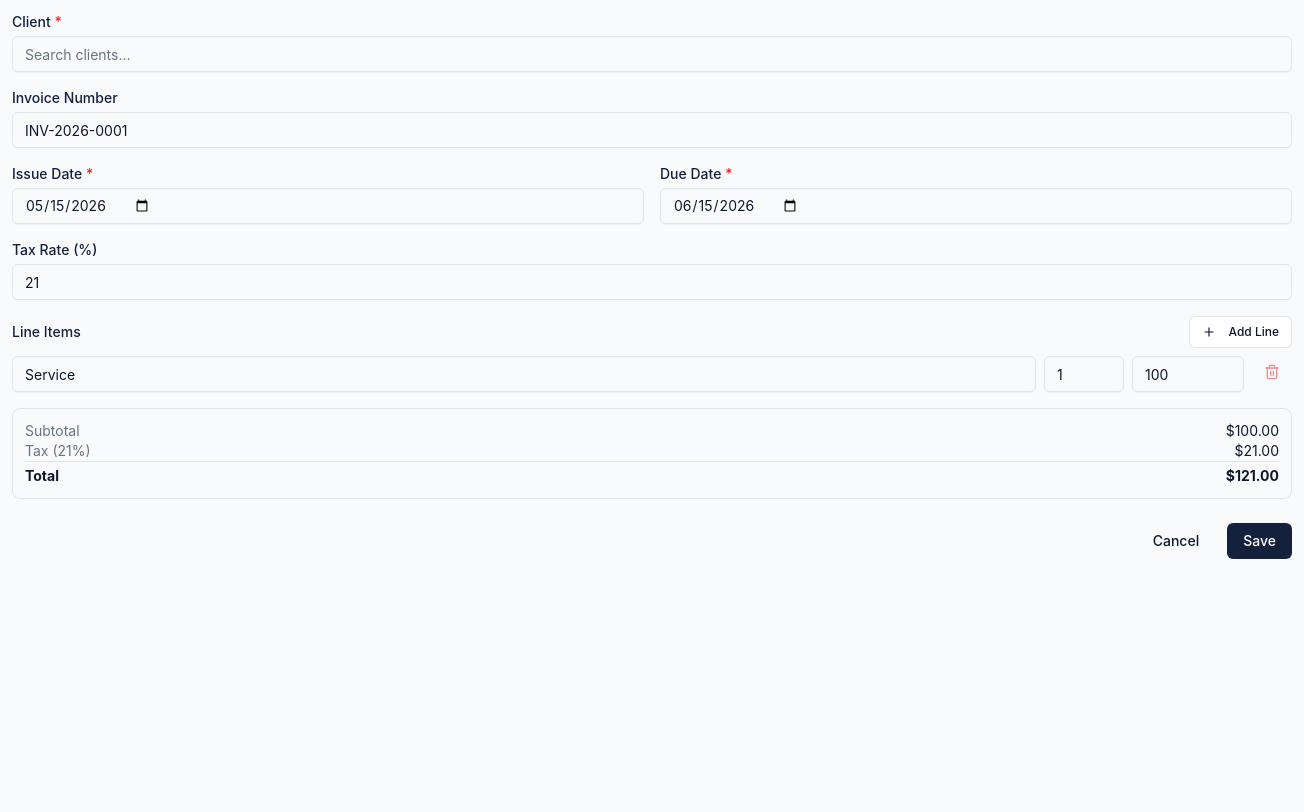
Test case: InvoiceForm › shows taxRate field error when taxRate exceeds maximum
Step 1. Replace the text in the number field with test id "input-tax-rate" with "200" → (652, 282), box [12,264,1292,300]
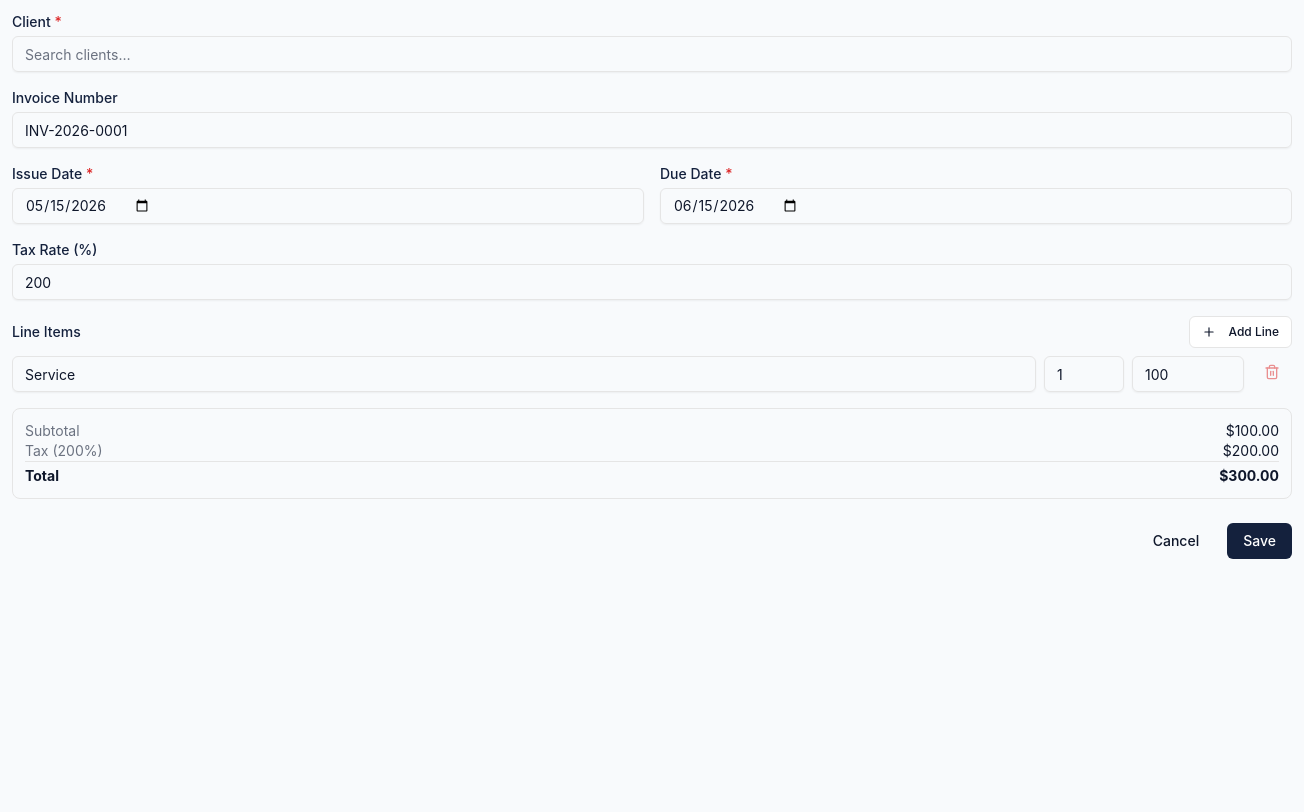
Step 2. Click the button with test id "btn-submit" → (1260, 541), box [1227,523,1292,559]
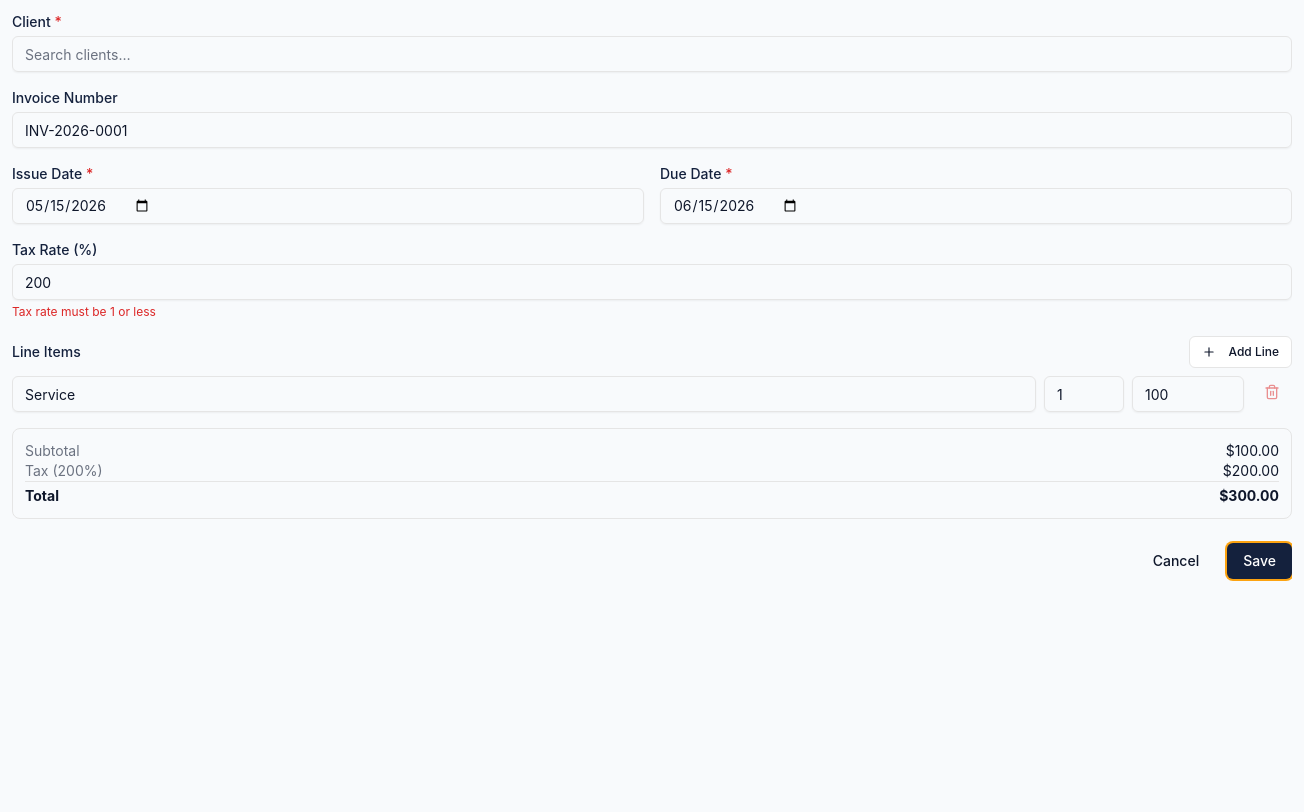
Now the message "Tax rate must be 1 or less" is shown, box [12,304,156,319]
